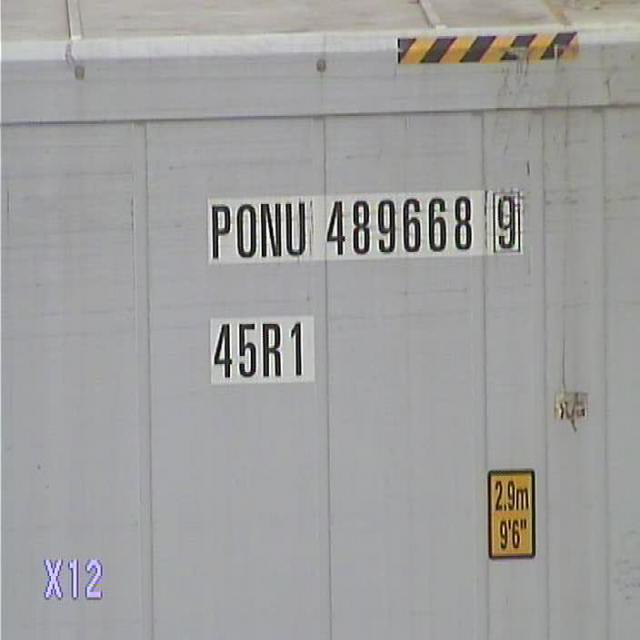container_number_h: (181, 158, 538, 409)
